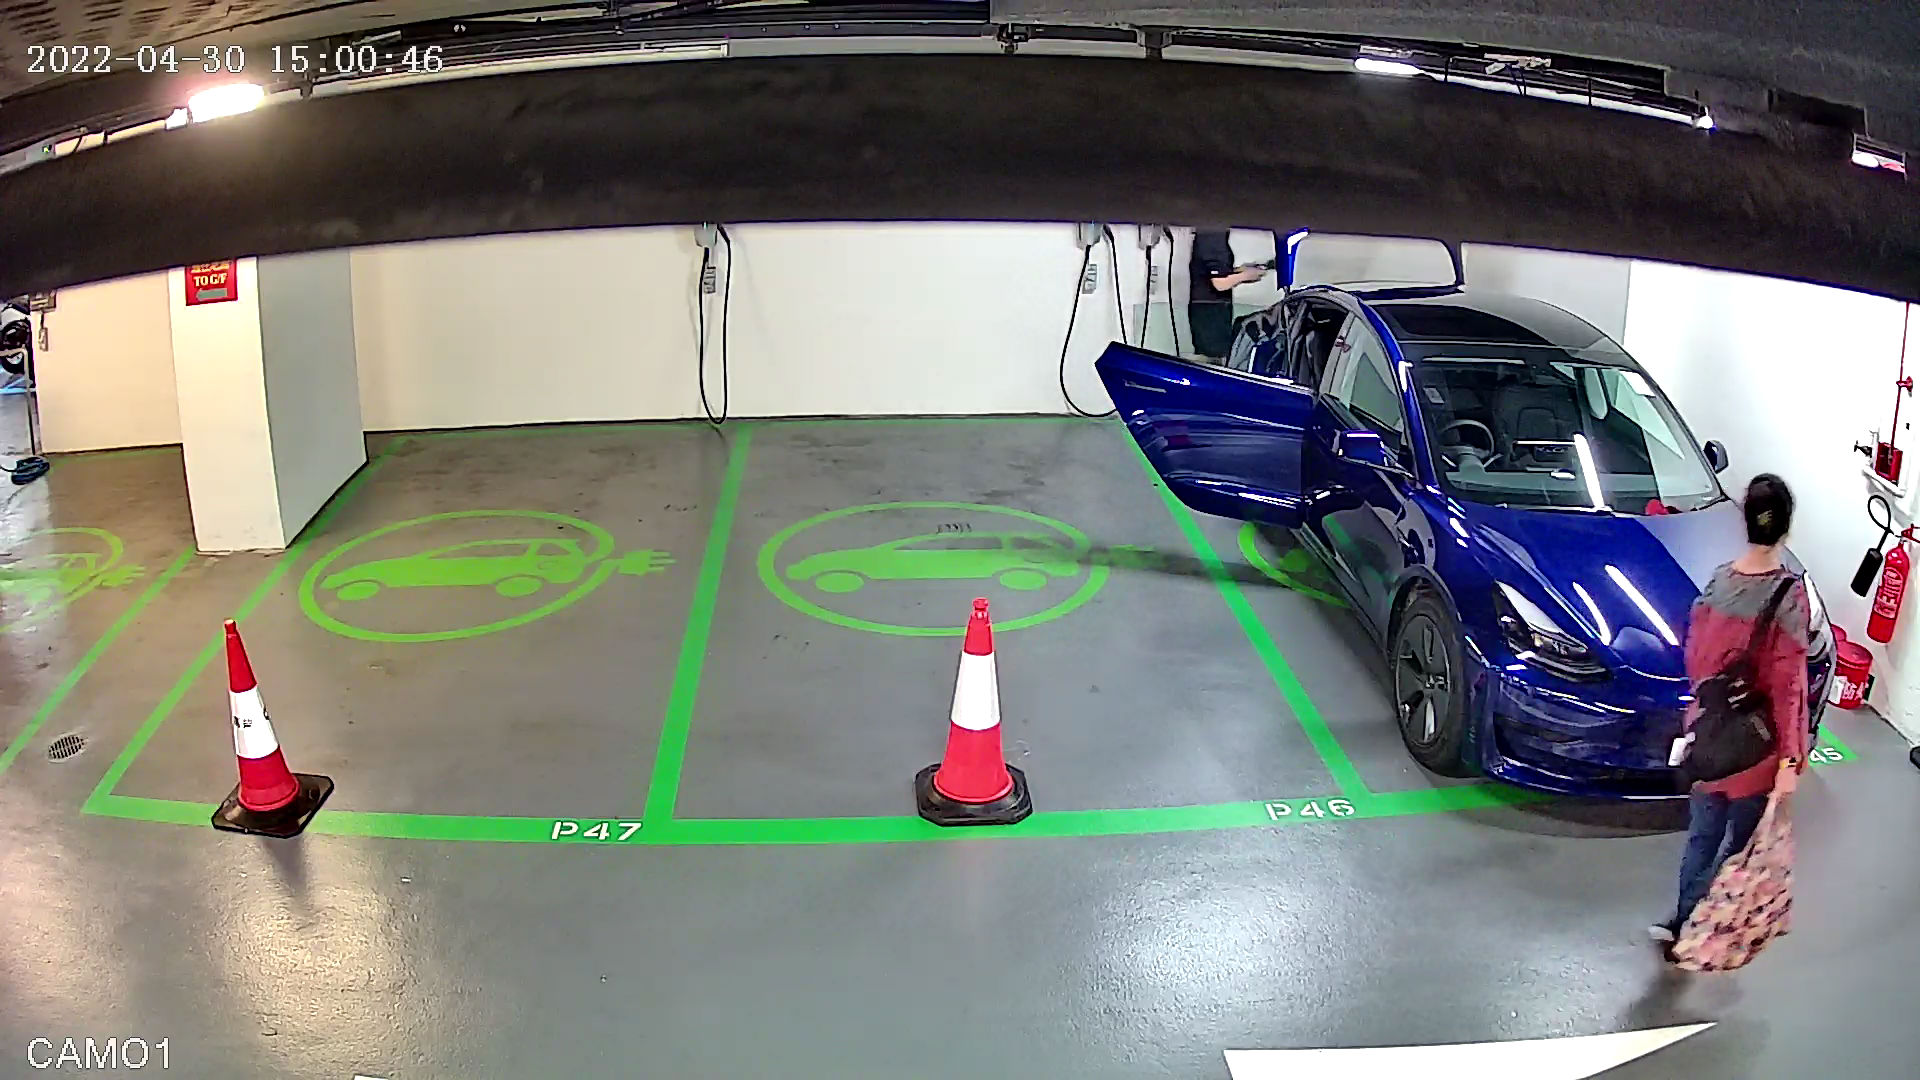car: (1195, 256, 1871, 852)
space: (42, 357, 764, 920), (612, 367, 1389, 873)
